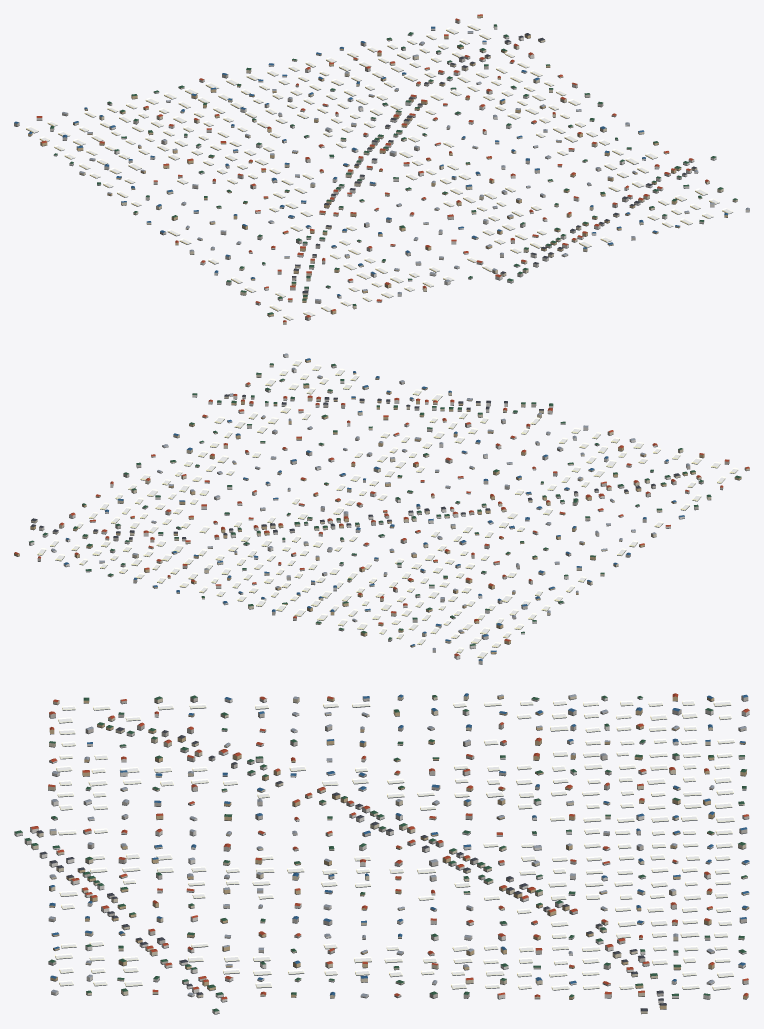
Rendered from buildings_T_W04_S01.glb.
3 renders of one model, top to bottom at view 1: azimuth 30°, elevation 25°; view 2: azimuth 150°, elevation 25°; view 3: azimuth 270°, elevation 25°, orthographic. The views are drawn at different scales.
Visible parts, largest first — view 1: T_W04_S01_roofs_agri_greenhouse_arch, T_W04_S01_slope_seating_foundations, T_W04_S01_walls_wall_pastel_sand_gray, T_W04_S01_walls_wall_modern_warm_white, T_W04_S01_walls_wall_french_ochre_villa, T_W04_S01_walls_wall_dalat_cream_stucco, T_W04_S01_roofs_roof_terracotta_gable, T_W04_S01_roofs_roof_pine_green_hip, T_W04_S01_roofs_roof_highland_blue_gable, T_W04_S01_roofs_roof_zinc_silver_gable, T_W04_S01_roofs_roof_slate_French_villa_hip; view 2: T_W04_S01_roofs_agri_greenhouse_arch, T_W04_S01_slope_seating_foundations, T_W04_S01_walls_wall_pastel_sand_gray, T_W04_S01_walls_wall_french_ochre_villa, T_W04_S01_walls_wall_modern_warm_white, T_W04_S01_walls_wall_dalat_cream_stucco, T_W04_S01_roofs_roof_terracotta_gable, T_W04_S01_roofs_roof_pine_green_hip, T_W04_S01_roofs_roof_highland_blue_gable, T_W04_S01_roofs_roof_zinc_silver_gable, T_W04_S01_roofs_roof_slate_French_villa_hip; view 3: T_W04_S01_roofs_agri_greenhouse_arch, T_W04_S01_slope_seating_foundations, T_W04_S01_walls_wall_pastel_sand_gray, T_W04_S01_walls_wall_french_ochre_villa, T_W04_S01_walls_wall_modern_warm_white, T_W04_S01_walls_wall_dalat_cream_stucco, T_W04_S01_roofs_roof_terracotta_gable, T_W04_S01_roofs_roof_pine_green_hip, T_W04_S01_roofs_roof_highland_blue_gable, T_W04_S01_roofs_roof_zinc_silver_gable, T_W04_S01_roofs_roof_slate_French_villa_hip.
Boxes of the visible parts, bbox=[...] form: T_W04_S01_roofs_agri_greenhouse_arch: bbox=[26, 24, 733, 319]; T_W04_S01_slope_seating_foundations: bbox=[14, 17, 749, 324]; T_W04_S01_walls_wall_pastel_sand_gray: bbox=[14, 19, 704, 320]; T_W04_S01_walls_wall_modern_warm_white: bbox=[36, 25, 749, 302]; T_W04_S01_walls_wall_french_ochre_villa: bbox=[28, 15, 727, 316]; T_W04_S01_walls_wall_dalat_cream_stucco: bbox=[73, 39, 737, 324]; T_W04_S01_roofs_roof_terracotta_gable: bbox=[36, 14, 709, 322]; T_W04_S01_roofs_roof_pine_green_hip: bbox=[50, 24, 737, 314]; T_W04_S01_roofs_roof_highland_blue_gable: bbox=[14, 26, 728, 296]; T_W04_S01_roofs_roof_zinc_silver_gable: bbox=[62, 31, 749, 300]; T_W04_S01_roofs_roof_slate_French_villa_hip: bbox=[292, 33, 696, 293]; T_W04_S01_roofs_agri_greenhouse_arch: bbox=[37, 360, 738, 657]; T_W04_S01_slope_seating_foundations: bbox=[14, 356, 749, 664]; T_W04_S01_walls_wall_pastel_sand_gray: bbox=[37, 365, 729, 663]; T_W04_S01_walls_wall_french_ochre_villa: bbox=[14, 359, 741, 653]; T_W04_S01_walls_wall_modern_warm_white: bbox=[29, 354, 689, 659]; T_W04_S01_walls_wall_dalat_cream_stucco: bbox=[31, 364, 749, 643]; T_W04_S01_roofs_roof_terracotta_gable: bbox=[14, 382, 749, 656]; T_W04_S01_roofs_roof_pine_green_hip: bbox=[29, 363, 741, 645]; T_W04_S01_roofs_roof_highland_blue_gable: bbox=[64, 358, 684, 660]; T_W04_S01_roofs_roof_zinc_silver_gable: bbox=[51, 353, 690, 650]; T_W04_S01_roofs_roof_slate_French_villa_hip: bbox=[30, 394, 680, 539]; T_W04_S01_roofs_agri_greenhouse_arch: bbox=[55, 700, 734, 990]; T_W04_S01_slope_seating_foundations: bbox=[15, 698, 749, 1014]; T_W04_S01_walls_wall_pastel_sand_gray: bbox=[24, 695, 749, 998]; T_W04_S01_walls_wall_french_ochre_villa: bbox=[49, 695, 749, 1009]; T_W04_S01_walls_wall_modern_warm_white: bbox=[14, 697, 749, 1013]; T_W04_S01_walls_wall_dalat_cream_stucco: bbox=[31, 694, 749, 1013]; T_W04_S01_roofs_roof_terracotta_gable: bbox=[30, 693, 749, 999]; T_W04_S01_roofs_roof_pine_green_hip: bbox=[14, 695, 747, 1011]; T_W04_S01_roofs_roof_highland_blue_gable: bbox=[49, 693, 749, 995]; T_W04_S01_roofs_roof_zinc_silver_gable: bbox=[49, 694, 746, 996]; T_W04_S01_roofs_roof_slate_French_villa_hip: bbox=[36, 727, 666, 1011].
Bounding box in the file's own units: 1849 × 35.08 × 1836.
